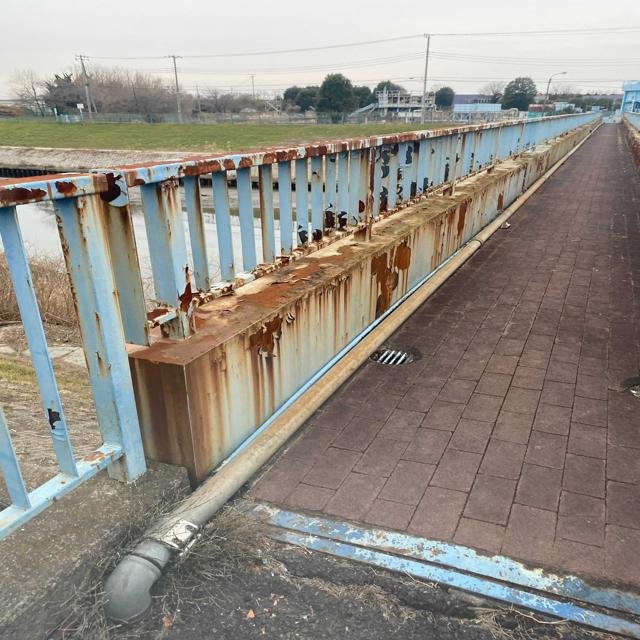corrosion: (34, 108, 552, 393)
